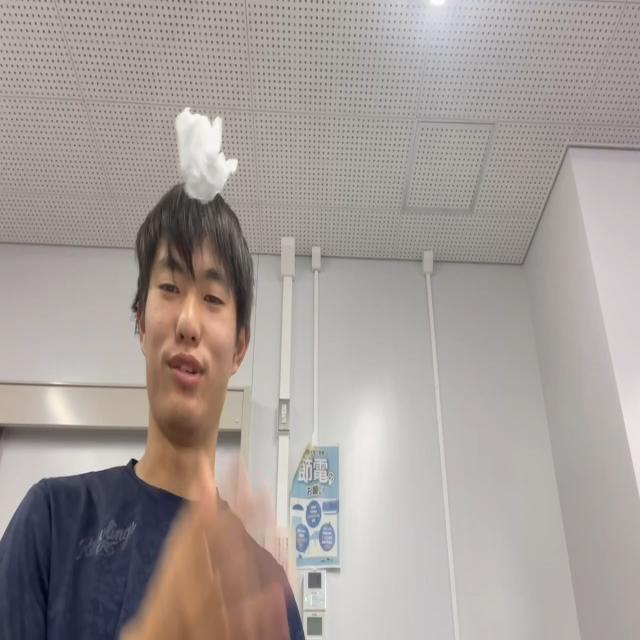paper: (175, 105, 238, 204)
